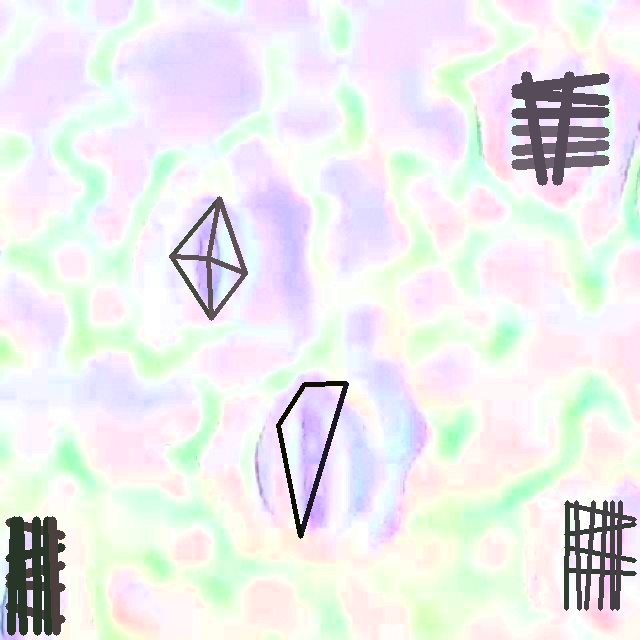close: (564, 500, 636, 610)
open: (512, 72, 609, 185), (277, 382, 347, 538), (169, 196, 247, 320), (5, 516, 65, 635)
